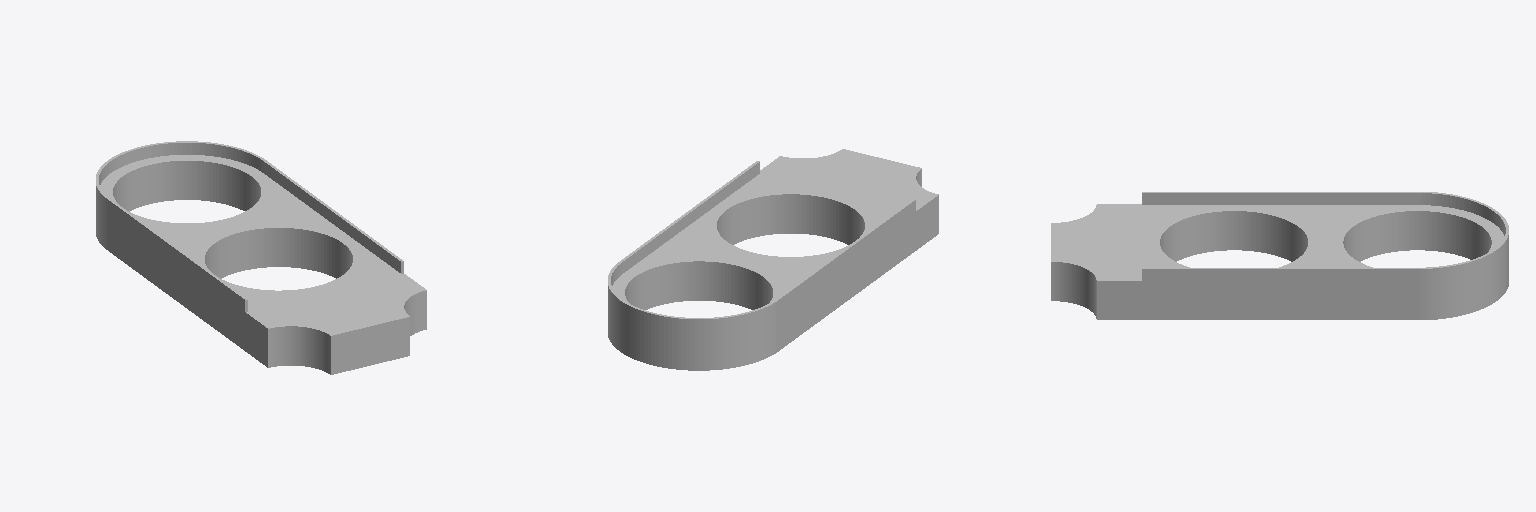
File: draintray_simple_correct.obj
3 views of the same model, side by side, from view 1: azimuth 30°, elevation 25°; view 2: azimuth 150°, elevation 25°; view 3: azimuth 270°, elevation 25° (orthographic).
Visible parts, largest first — view 1: DrainTray; view 2: DrainTray; view 3: DrainTray.
Boxes of the visible parts, box(x1,y1,x2,y2) form: DrainTray: box(96, 141, 426, 374); DrainTray: box(608, 149, 938, 370); DrainTray: box(1051, 192, 1508, 319).
Size of the model in its own units: 0.055 by 0.017 by 0.1375.